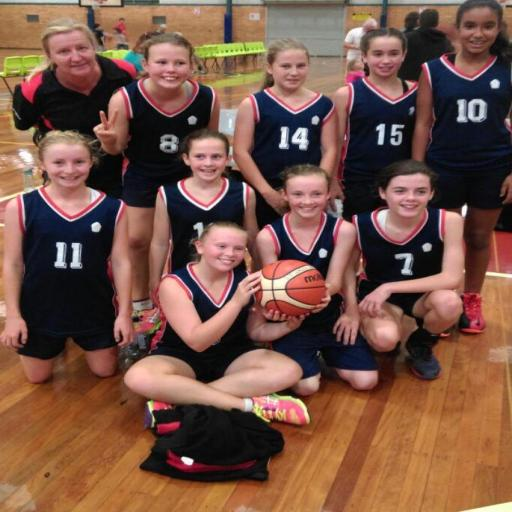person: (125, 222, 309, 424), (95, 34, 219, 310), (0, 131, 133, 382), (413, 0, 511, 333), (257, 165, 378, 395), (348, 160, 463, 378), (234, 39, 337, 227), (150, 129, 257, 292), (332, 29, 417, 219), (13, 18, 135, 138), (399, 9, 452, 80), (344, 18, 377, 61), (124, 32, 157, 73), (346, 59, 365, 84), (403, 11, 420, 33), (93, 23, 106, 51), (113, 27, 129, 49), (114, 18, 126, 36)
